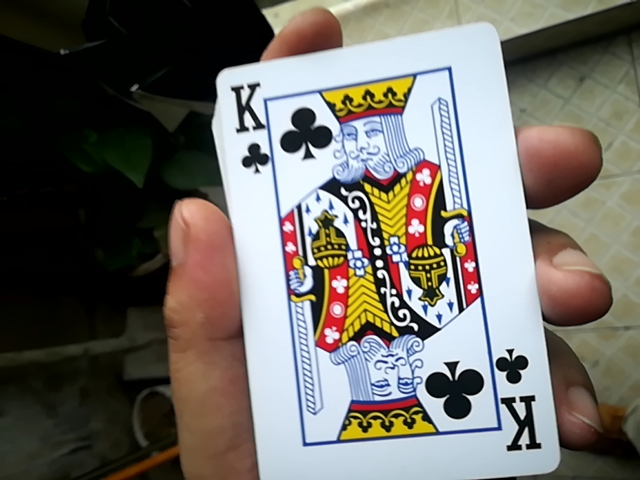mh k: (196, 17, 550, 472)
